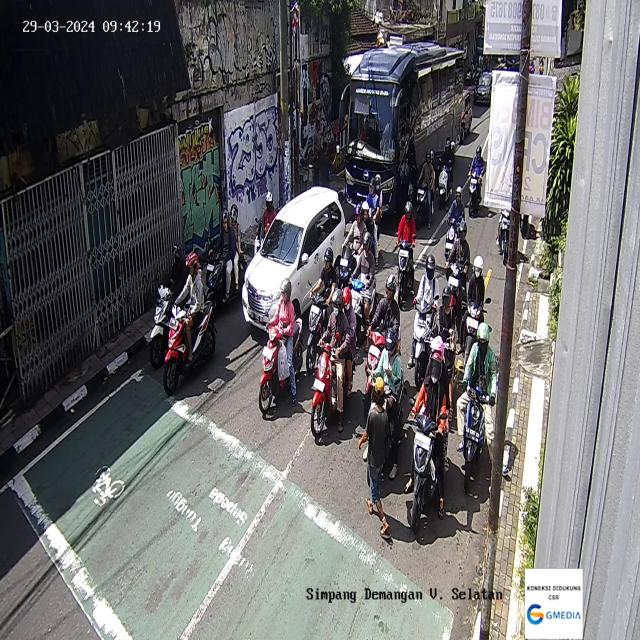bus: (337, 39, 465, 217)
car: (241, 185, 347, 334), (474, 70, 492, 106), (460, 91, 472, 141)
motorcycle: (403, 336, 453, 534), (162, 251, 216, 396), (310, 286, 356, 441), (456, 323, 494, 494), (367, 328, 407, 490), (258, 280, 303, 415), (150, 242, 192, 370), (364, 273, 400, 421), (206, 203, 247, 312), (306, 248, 339, 375), (412, 255, 440, 390), (338, 205, 376, 297), (348, 232, 377, 346), (462, 255, 491, 367), (435, 285, 456, 421), (445, 220, 470, 320), (396, 201, 415, 309), (361, 172, 383, 254), (414, 148, 436, 228), (253, 188, 278, 256), (445, 186, 465, 262), (436, 138, 456, 211), (467, 146, 485, 218), (496, 208, 511, 255)
